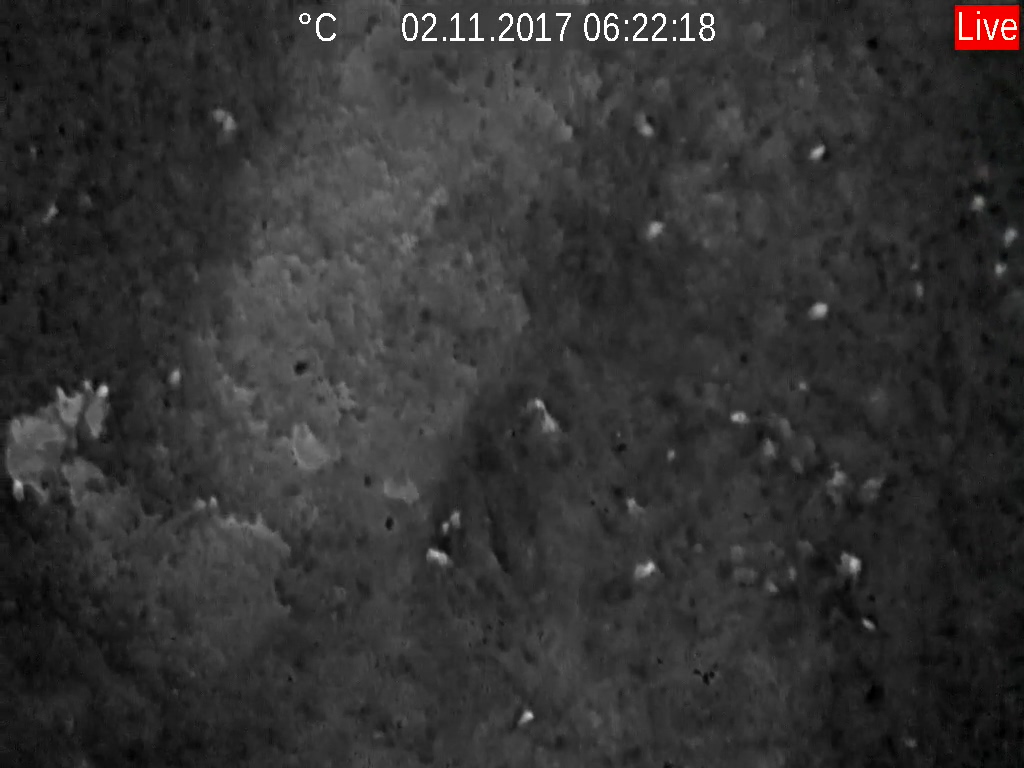warren: (632, 554, 659, 581), (513, 704, 538, 731)
